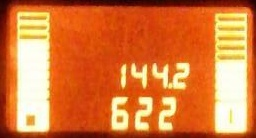-: (167, 81, 172, 89)
1: (118, 63, 127, 89)
2: (133, 95, 153, 130), (157, 95, 176, 131), (172, 61, 190, 89)
4: (129, 61, 147, 89), (151, 61, 168, 89)
6: (109, 95, 129, 131)
